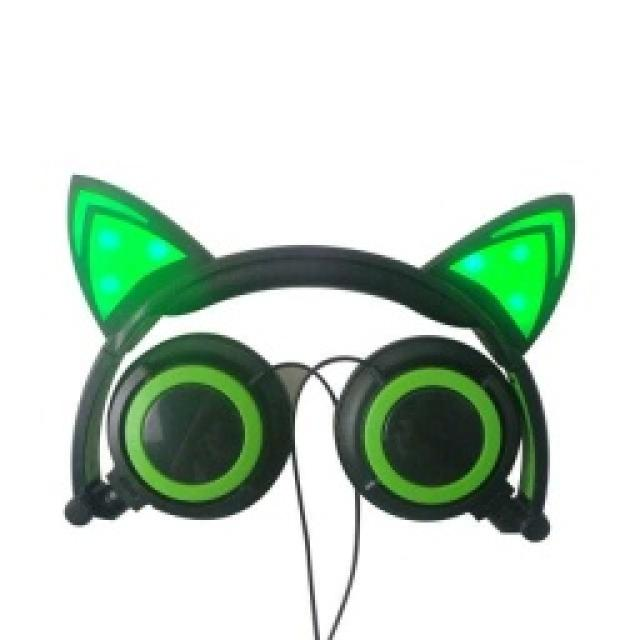headphones: (60, 170, 575, 542)
